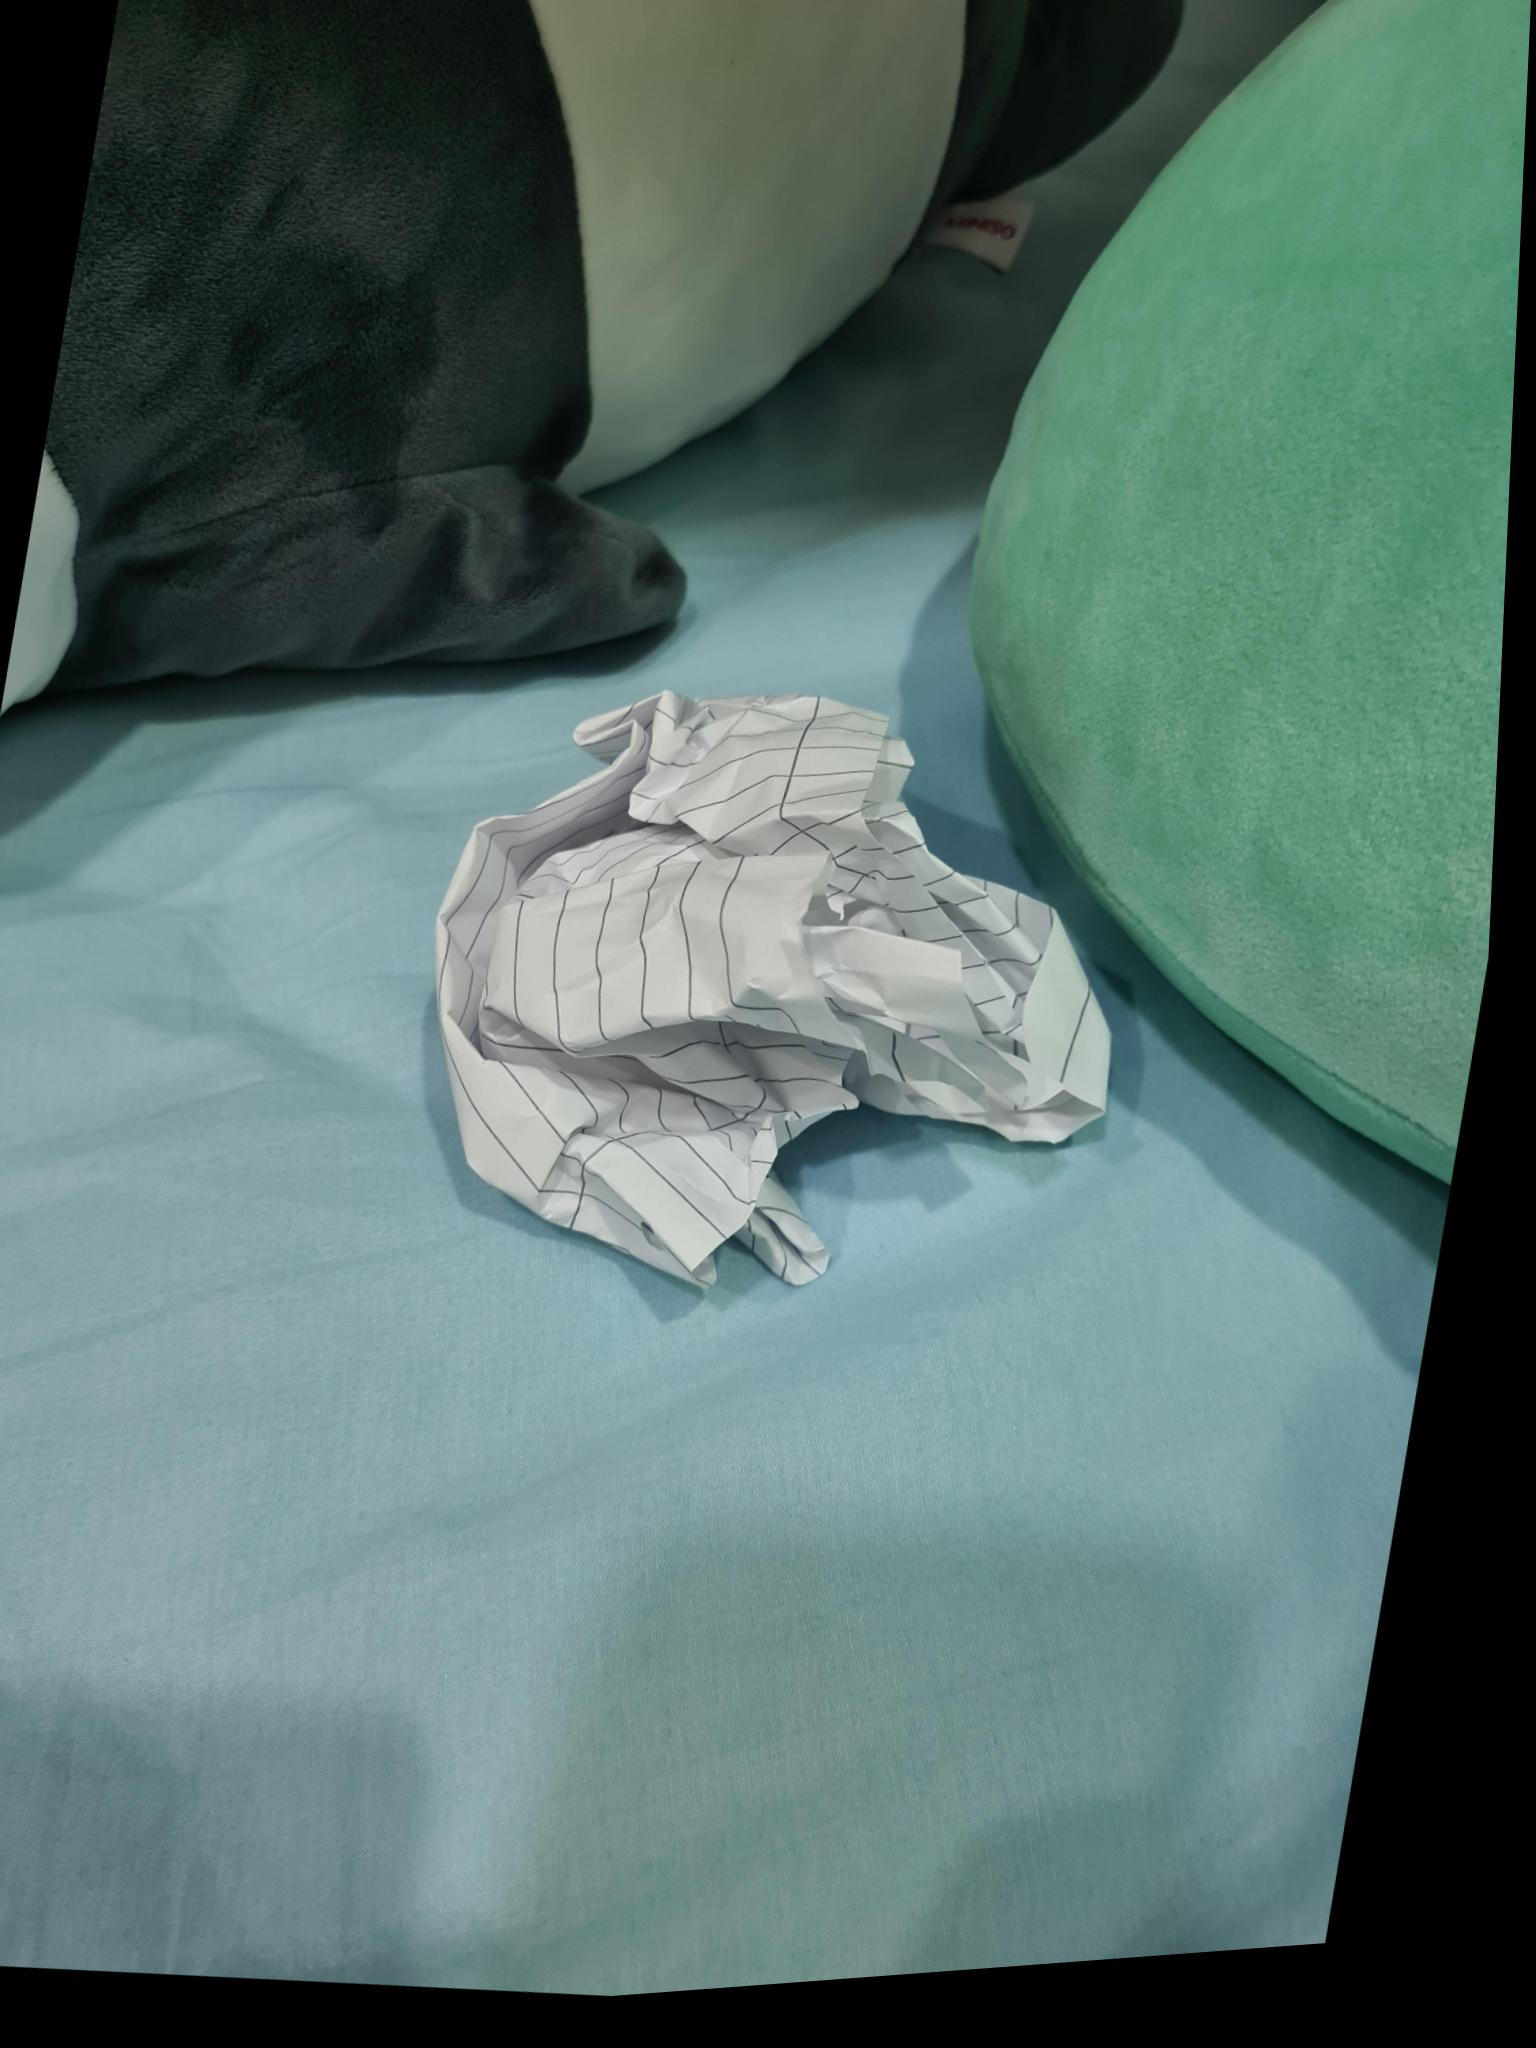organic: (531, 0, 963, 489)
paper: (437, 692, 1108, 1282)
